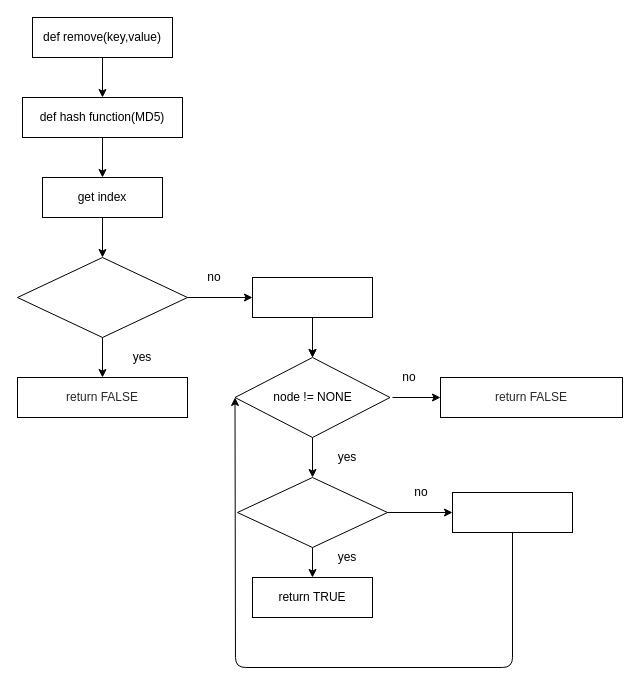
This 640x693 diagram has some shape labels left out. Each missing label, with the centre of its shape:
data[idx] == NONE: (102,297)
node.val == key_int: (312,512)
node=data[idx]: (312,297)
node=node.next: (512,512)
